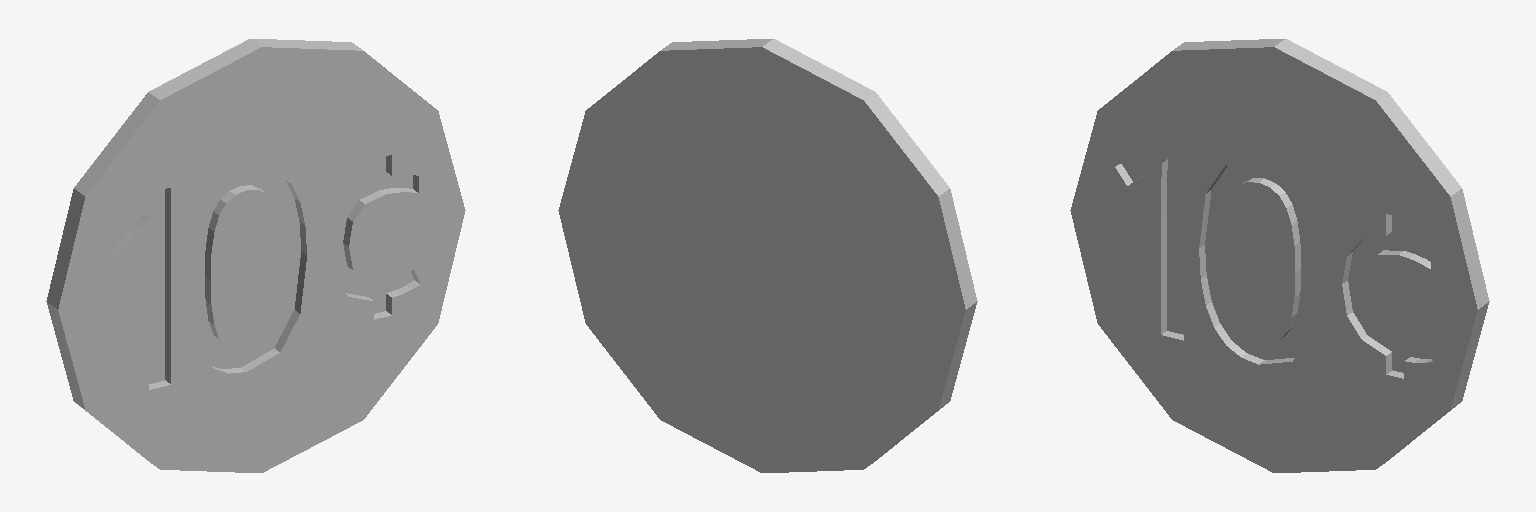
3 views of the same model, side by side, from view 1: azimuth 30°, elevation 25°; view 2: azimuth 150°, elevation 25°; view 3: azimuth 330°, elevation 25° (orthographic).
Visible parts, largest first — view 1: group_0_undefined; view 2: group_0_undefined; view 3: group_0_undefined.
Part boxes in pixels (x1,y1,x2,y2): group_0_undefined: (46, 39, 465, 472); group_0_undefined: (558, 39, 977, 472); group_0_undefined: (1070, 39, 1489, 472).
Size of the model in its own units: 9 by 9 by 0.45.